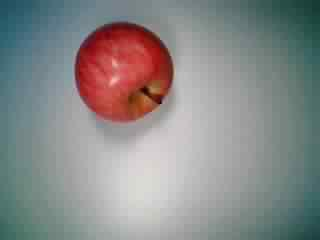apple: (73, 21, 177, 122)
